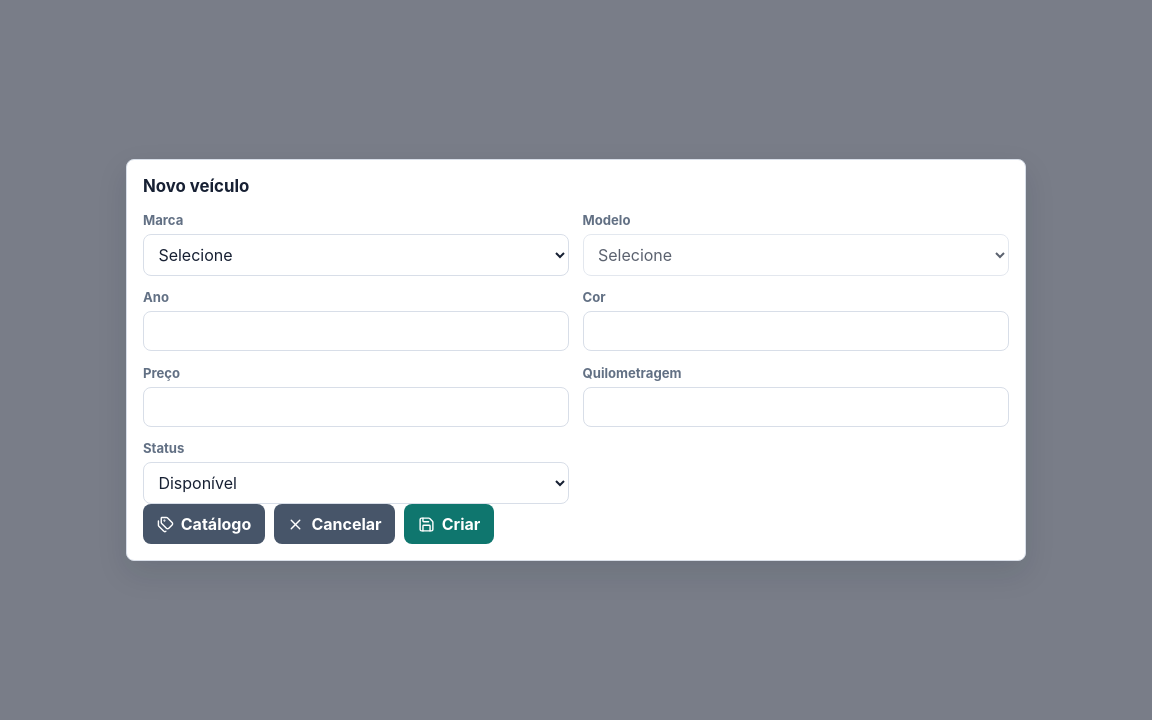
Test case: VehicleForm › validates required model before submit
The image size is (1152, 720).
Click the button "Criar": (449, 524) [404,504,494,544]
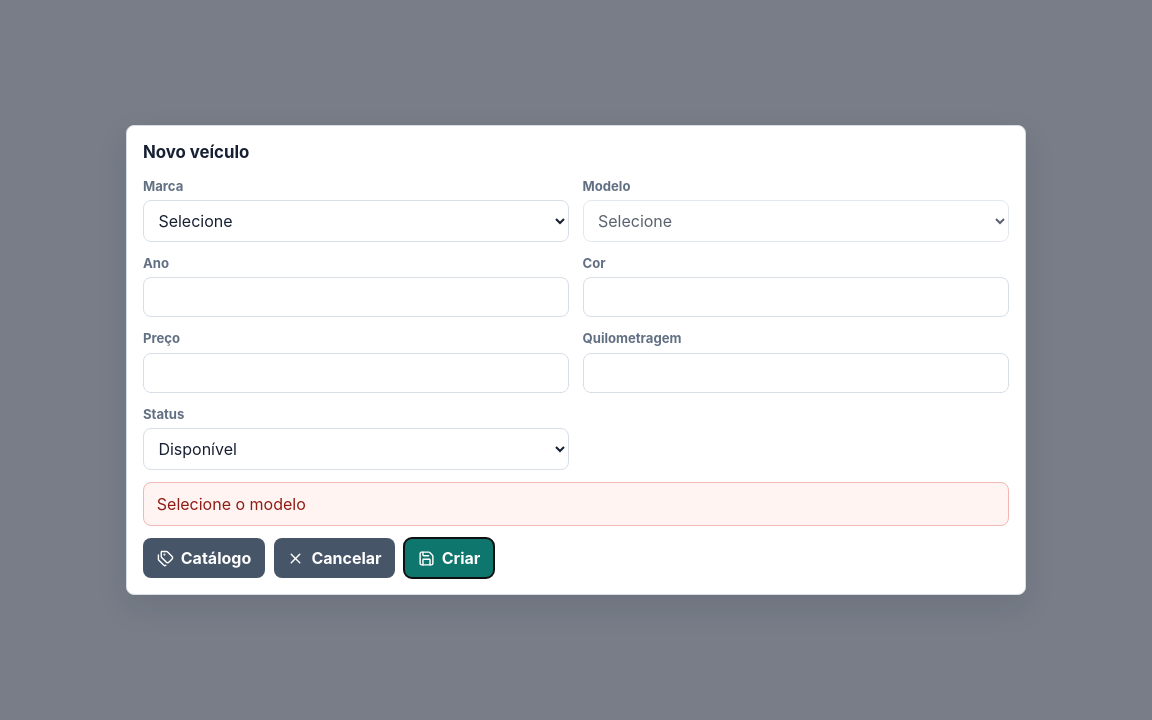
Expected: the text "Selecione o modelo" is shown, [143,482,1009,526]
